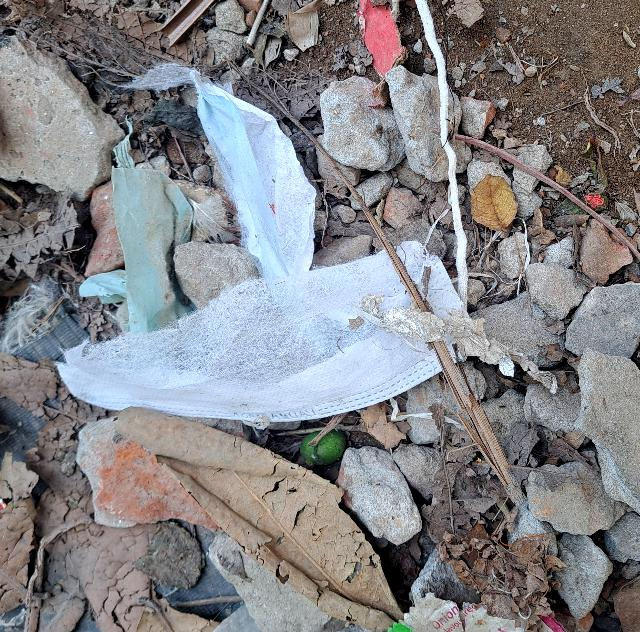mask: (59, 211, 491, 440)
